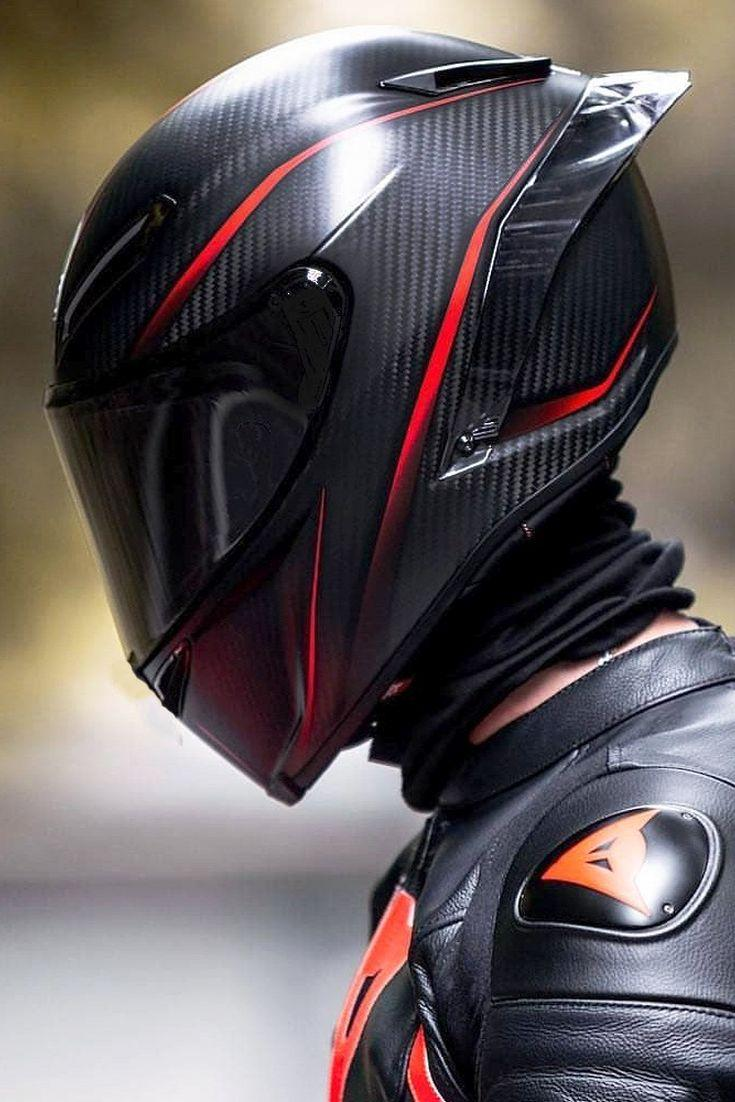Helmet: (47, 27, 686, 801)
